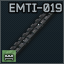ETMI-019 shotgun rail mount: (0, 0, 64, 64)
